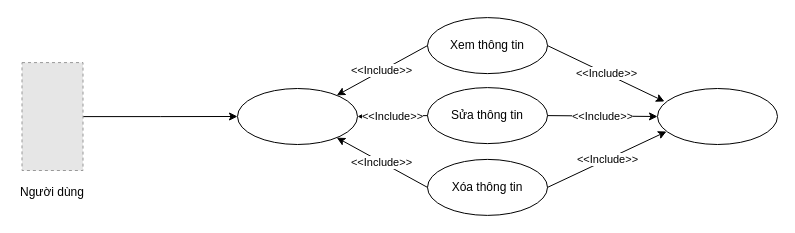
Image size: 795x233. Some labels were removed from this diagram. Grey dashed boxes stand in for pictures. The centre of each missing label's shape, as x and y in pixels:
"Hiển thị" goes at point 717,116.
"Quản lý tài khoản" goes at point 297,116.
